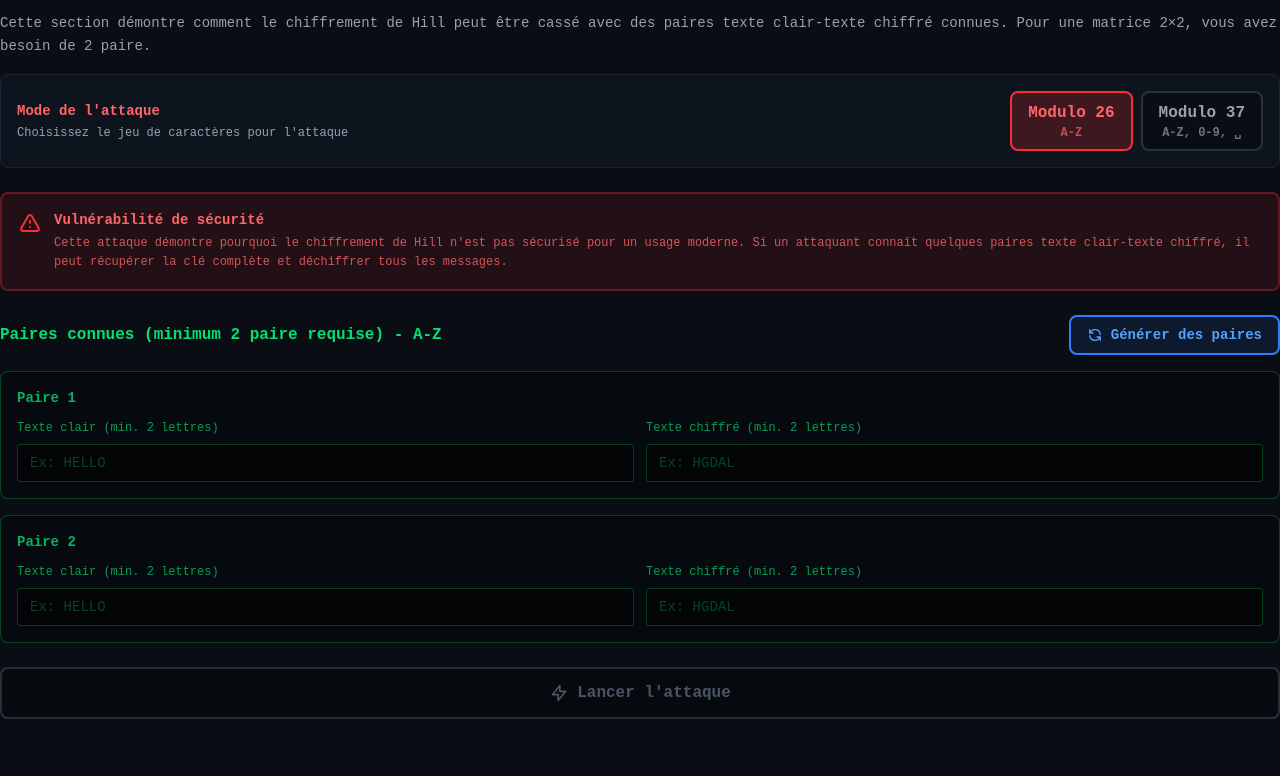
Test: AttackSection › displays recovered key matrix when attack succeeds
// Fill in pairs
Type "HE" into the 1st field with placeholder "Ex: HELLO".
click(326, 462); type("HE")  # box x1=17 y1=444 x2=634 y2=482
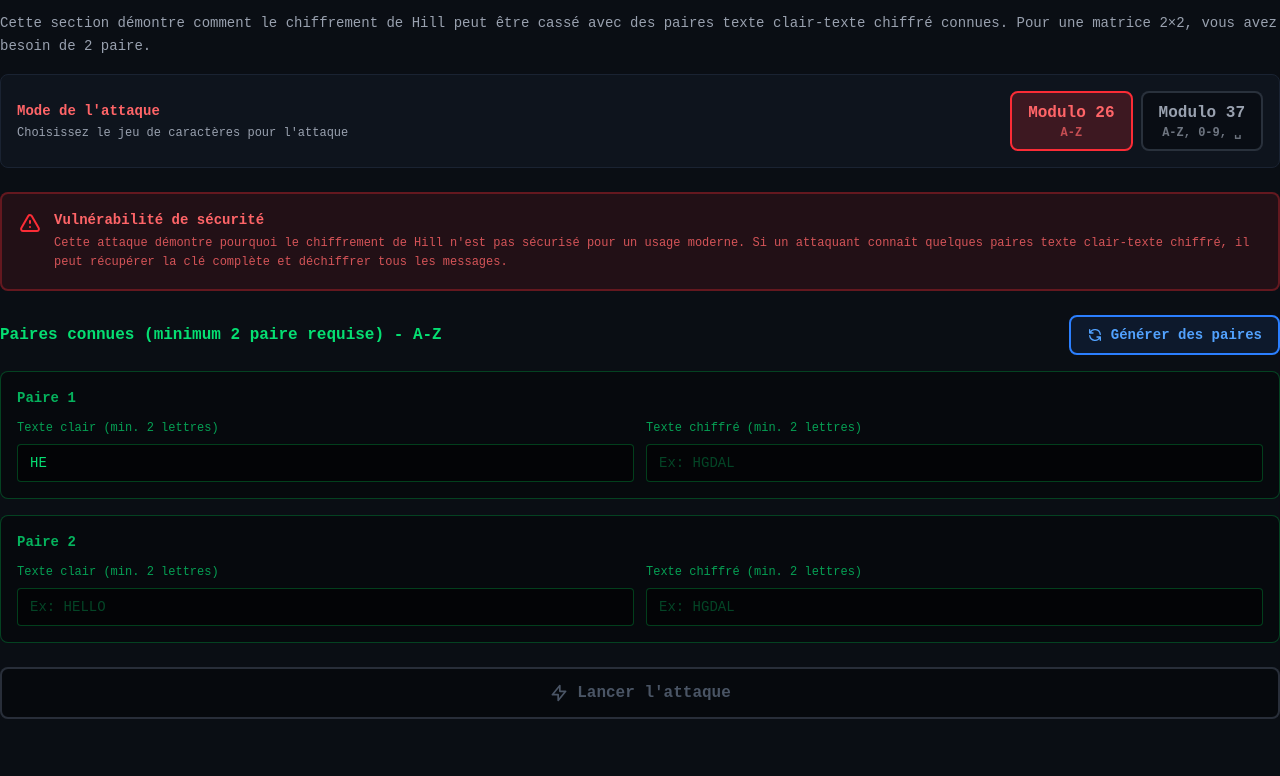
Type "AB" into the 1st field with placeholder "Ex: HGDAL".
click(954, 462); type("AB")  # box x1=646 y1=444 x2=1263 y2=482
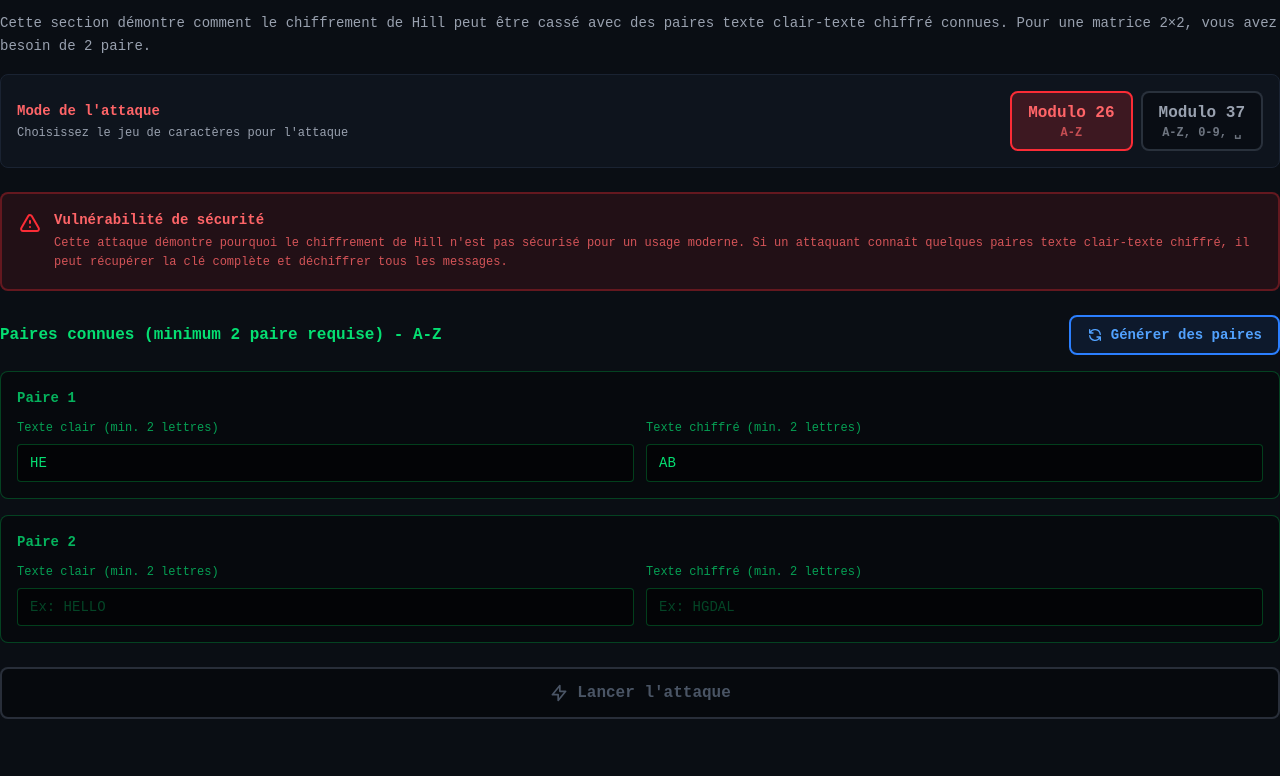
Type "LO" into the 2nd field with placeholder "Ex: HELLO".
click(326, 606); type("LO")  # box x1=17 y1=588 x2=634 y2=626
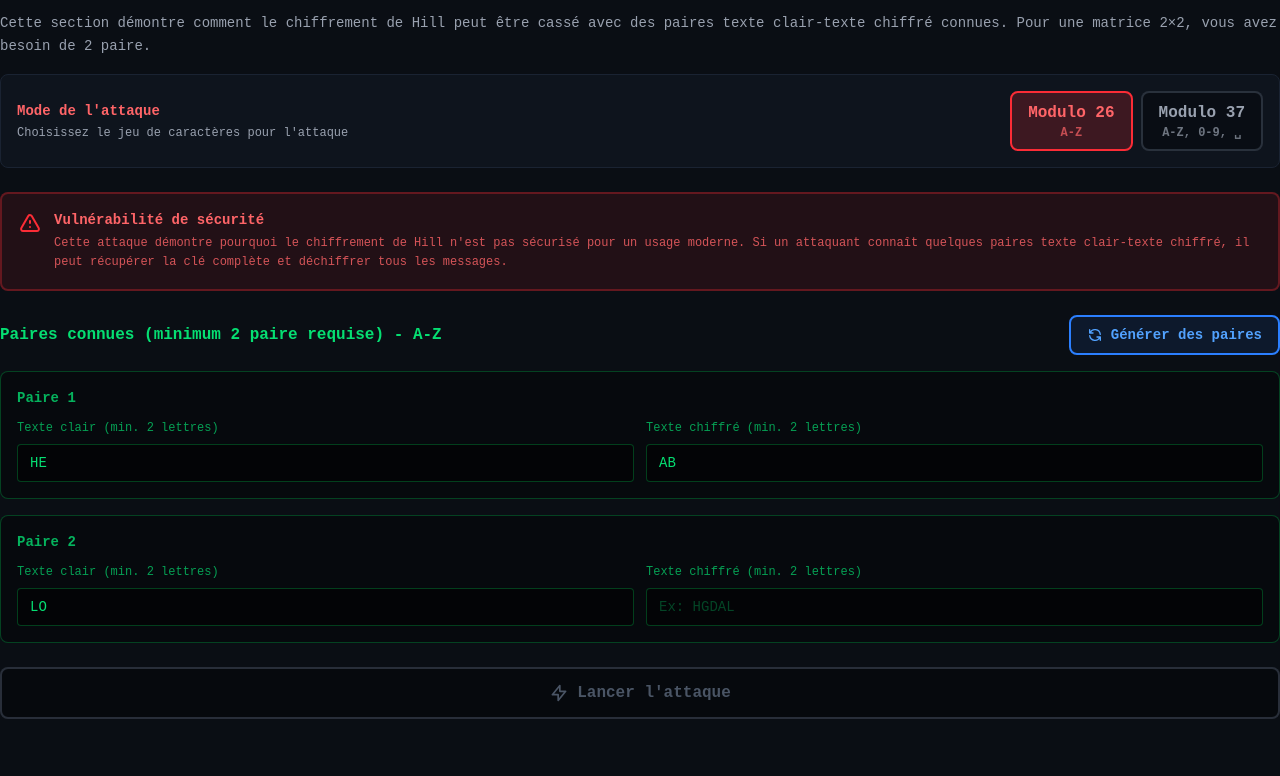
Type "CD" into the 2nd field with placeholder "Ex: HGDAL".
click(954, 606); type("CD")  # box x1=646 y1=588 x2=1263 y2=626
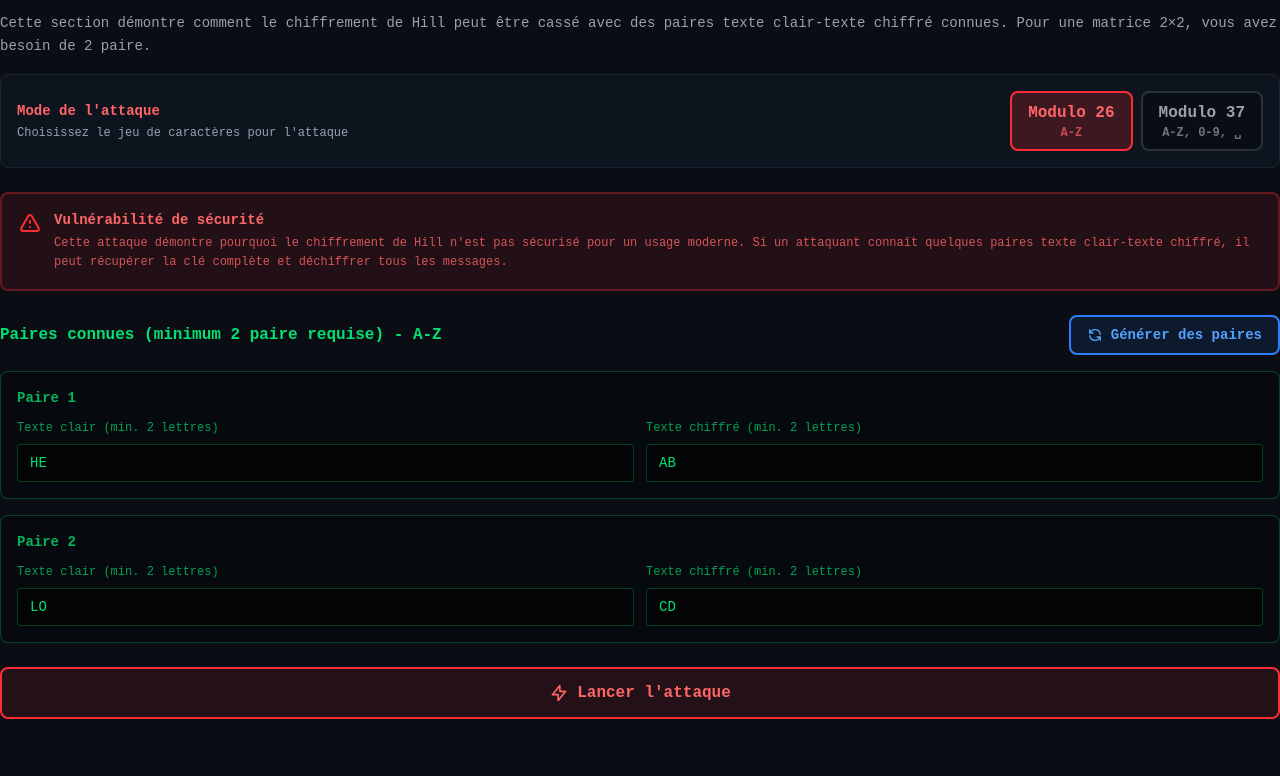
// Click attack button
Click the button "Lancer l'attaque".
click(640, 692)  # box x1=0 y1=666 x2=1279 y2=718
(page scrolled)
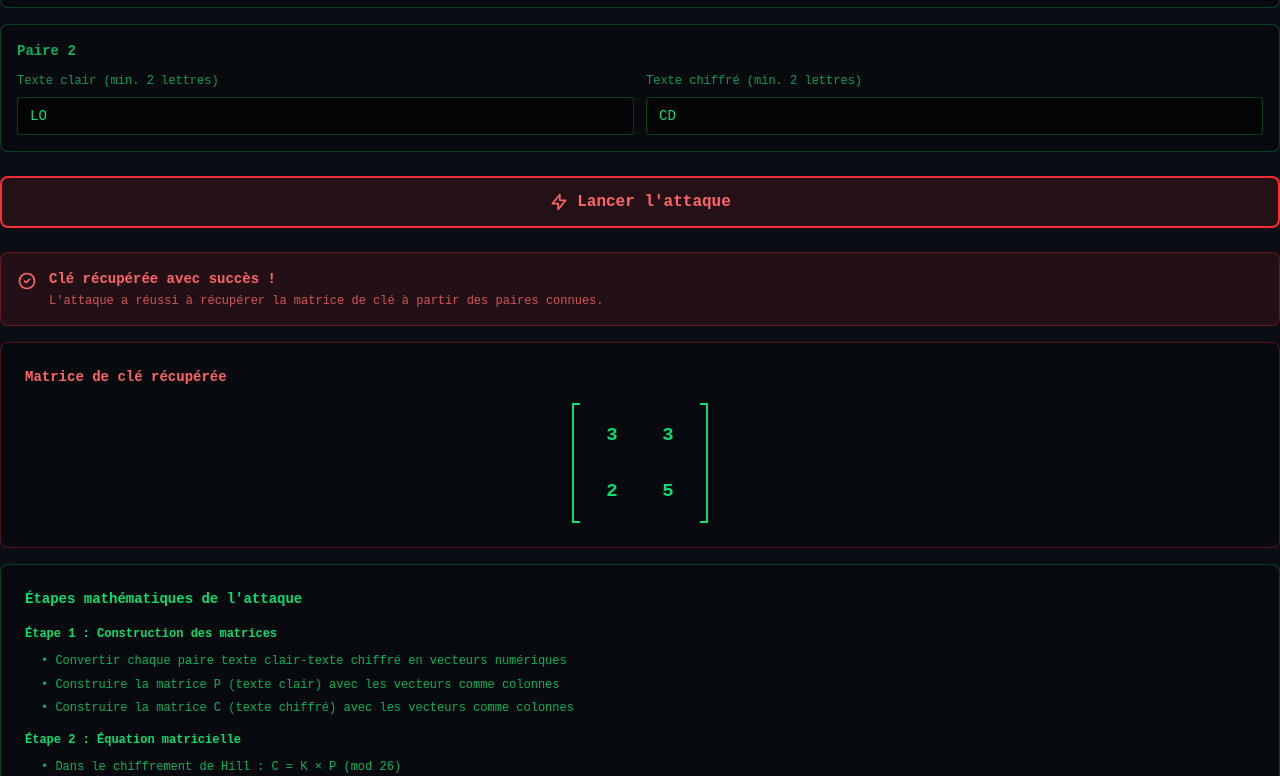
Check: the text "Clé récupérée avec succès !" is shown, box x1=49 y1=270 x2=276 y2=286
Check: the heading "Matrice de clé récupérée" is shown, box x1=25 y1=368 x2=227 y2=384
